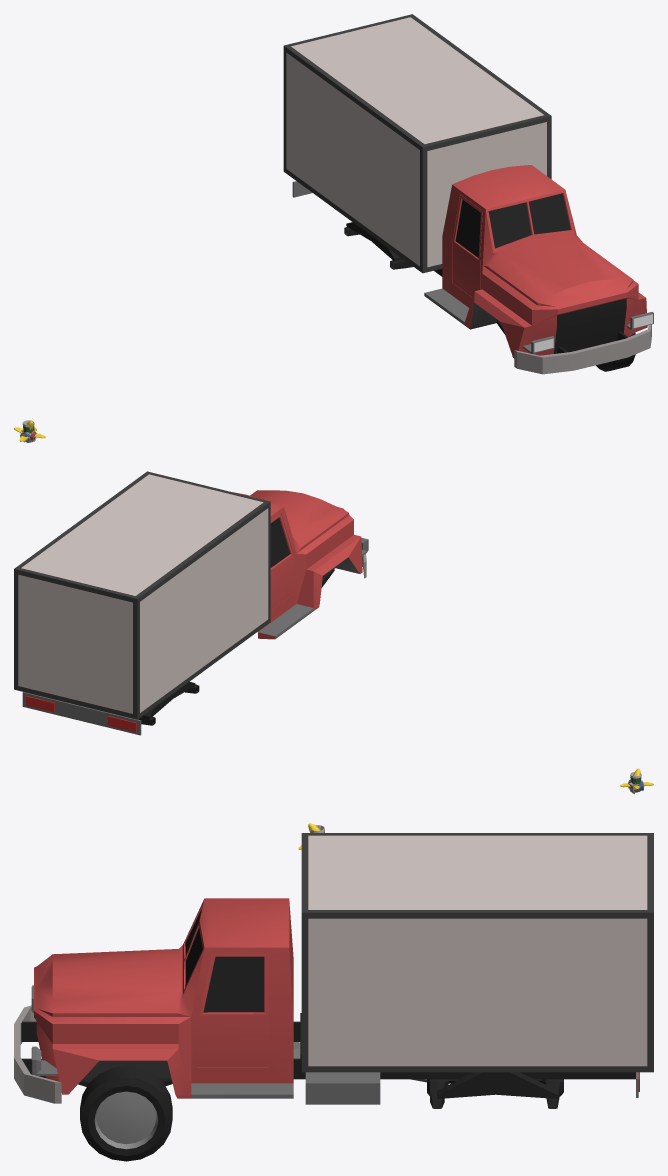
Rendered from Trash Pack.fbx.
3 views of the same model, one above another, from view 1: azimuth 30°, elevation 25°; view 2: azimuth 150°, elevation 25°; view 3: azimuth 270°, elevation 25° (orthographic). The views are drawn at different scales.
Parts seen in each view (by area): view 1: Truck Body; view 2: Truck Body; view 3: Truck Body, Wheel.
Boxes of the visible parts, left/top/right/bottom form: Truck Body: left=283, top=14, right=653, bottom=374; Truck Body: left=14, top=471, right=368, bottom=735; Truck Body: left=14, top=833, right=653, bottom=1108; Wheel: left=80, top=1066, right=172, bottom=1161.
Bounding box in the file's own units: 1162 × 427 × 954.
